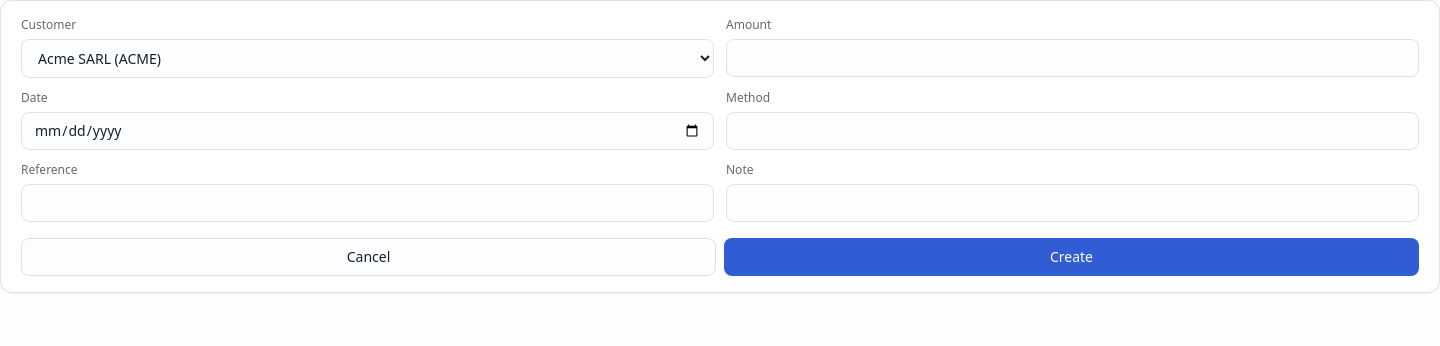
PaymentForm › shows the over-allocation refusal without navigating
Check: the dropdown labelled "Customer" is shown, box [21, 39, 714, 78]
Type "100" into the field labelled "Amount" at x=1072, y=58, box [726, 39, 1419, 77]
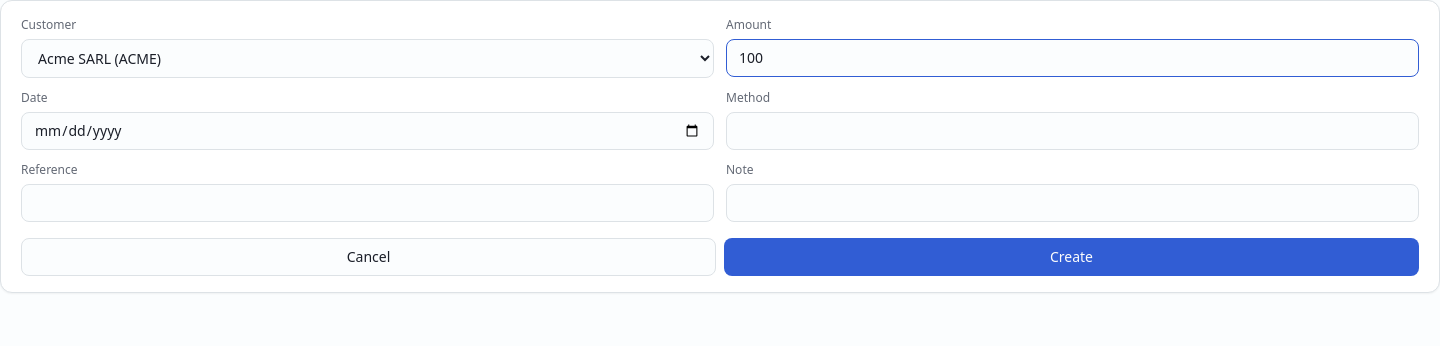
Click the button "Create" at x=1072, y=257, box [724, 238, 1419, 276]
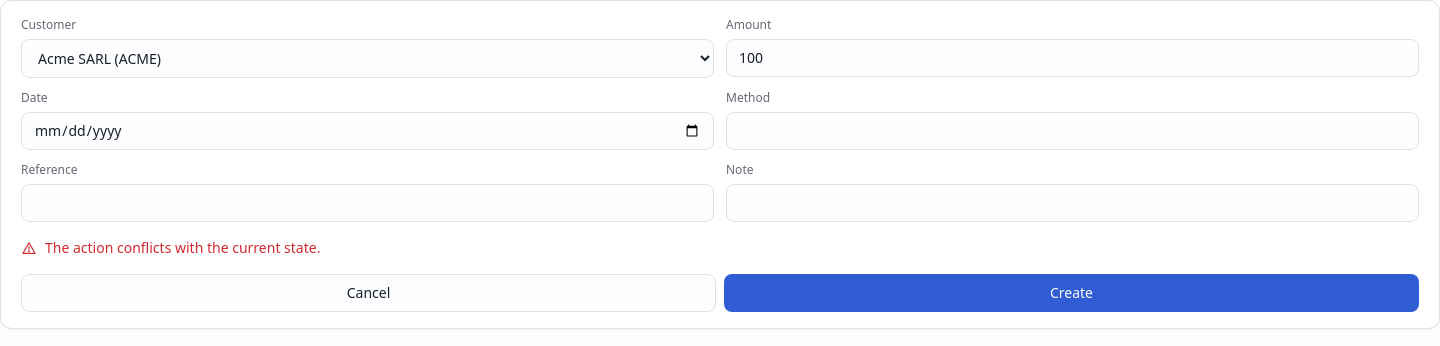
Check: the message reads "The action conflicts with the current state.", box [45, 238, 320, 257]
